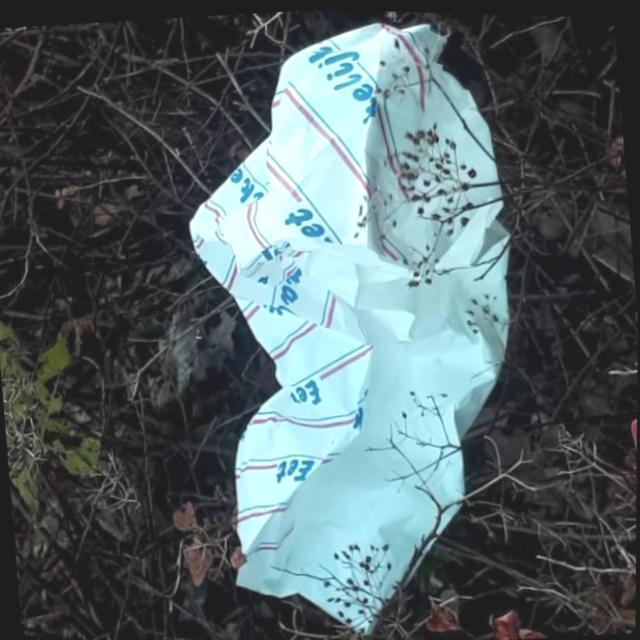Paper: (168, 4, 548, 640)
